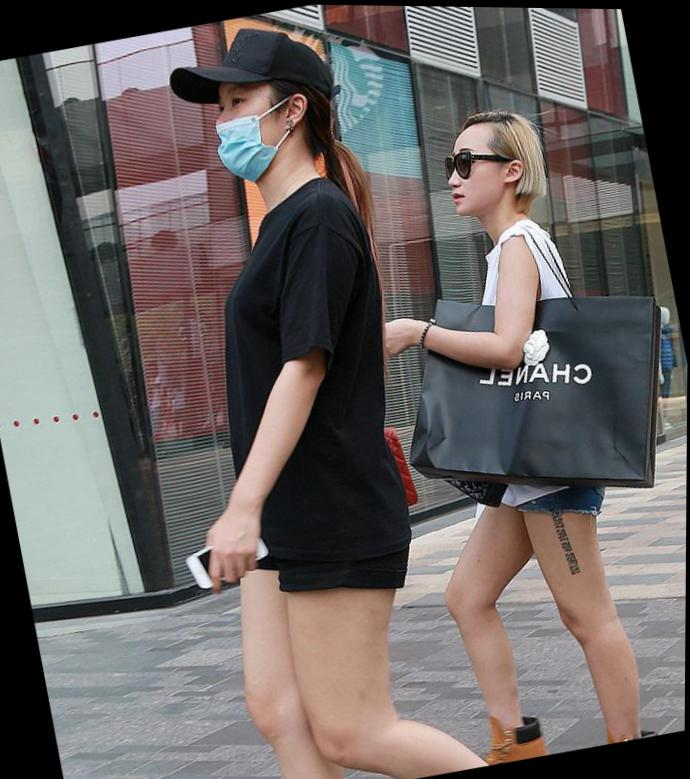NONE: (439, 128, 523, 220)
WRONG: (201, 78, 308, 185)
